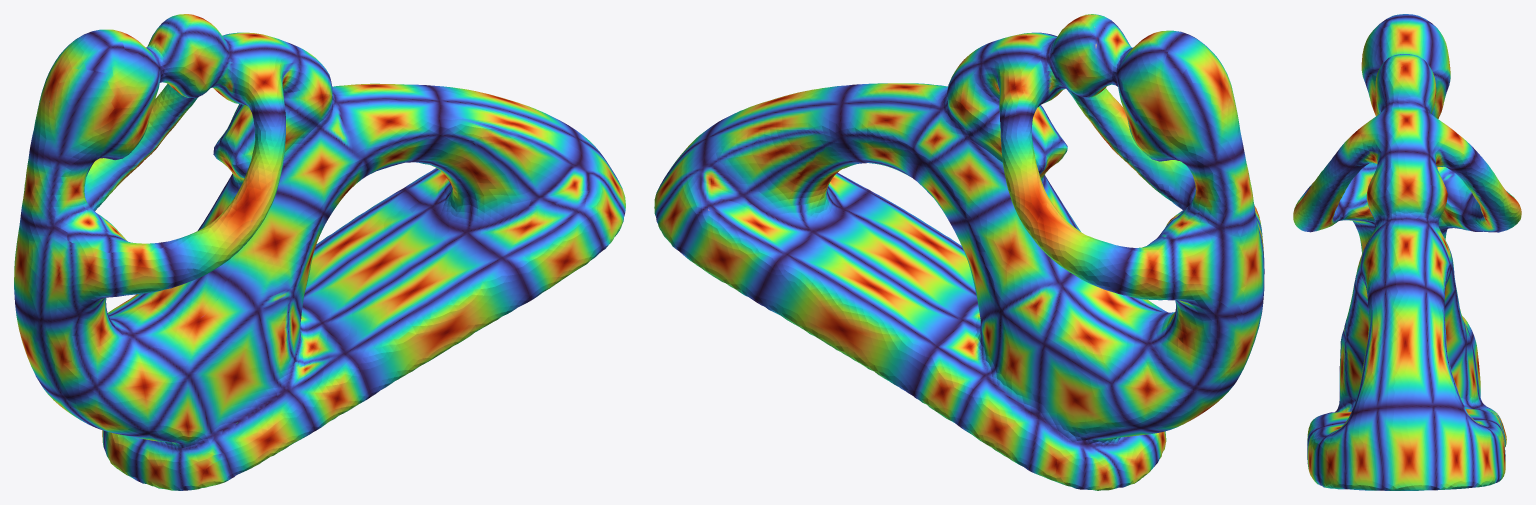
File: gen0.glb
3 views of the same model, side by side, from view 1: azimuth 30°, elevation 25°; view 2: azimuth 150°, elevation 25°; view 3: azimuth 270°, elevation 25° (orthographic). The views are drawn at different scales.
Parts seen in each view (by area): view 1: Node; view 2: Node; view 3: Node.
Part boxes in pixels (x1,y1,x2,y2): Node: [14, 14, 625, 490]; Node: [654, 14, 1264, 490]; Node: [1293, 14, 1521, 490].
Size of the model in its own units: 199 by 144 by 73.25.
Materials: 1 (1 with a texture image).
